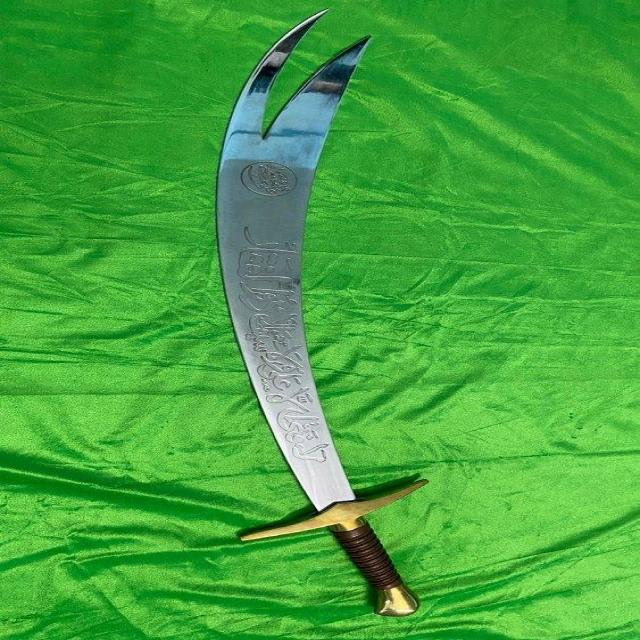weapon: (207, 5, 433, 626)
